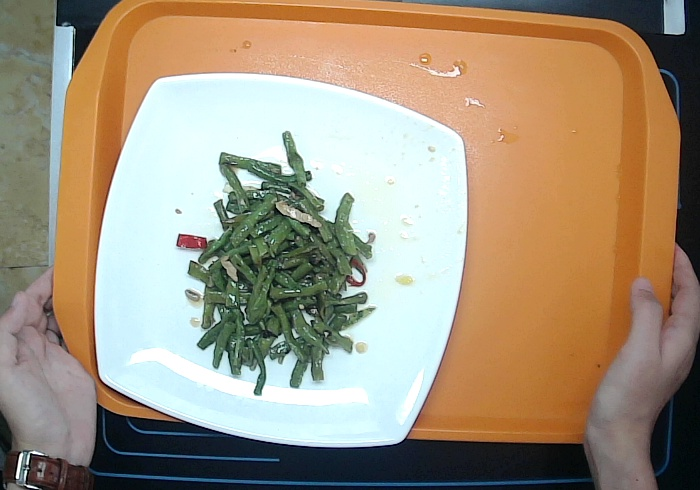ZNLD-Bai_Fang_Pan: (75, 64, 485, 467)
